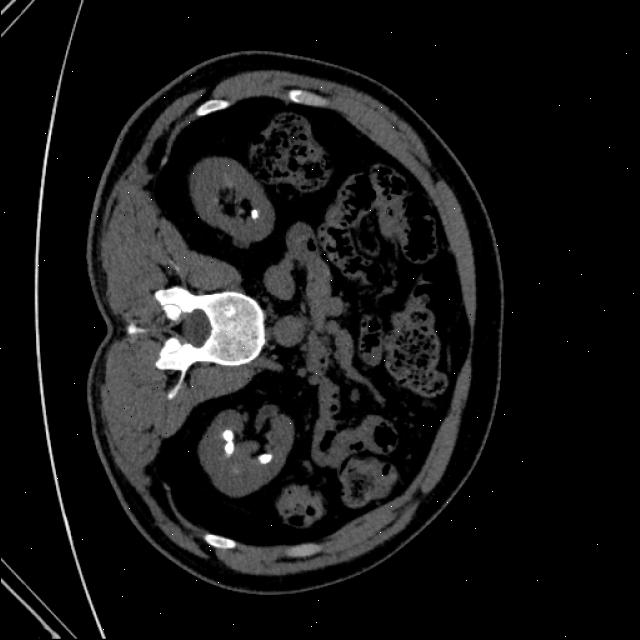kidneystone: (222, 429, 234, 456), (258, 454, 271, 464), (250, 209, 258, 218)
